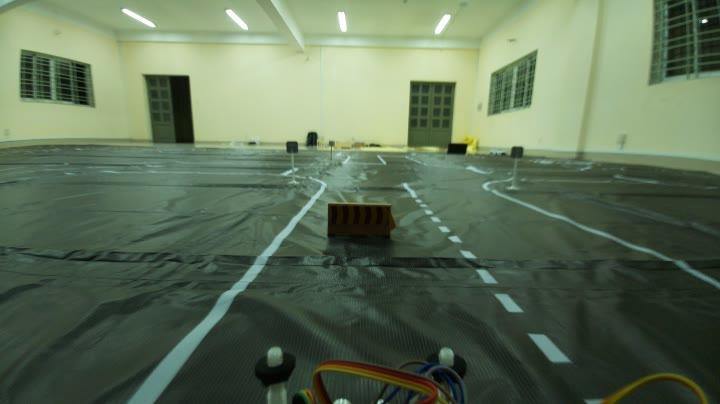roadblock: (322, 195, 402, 247)
